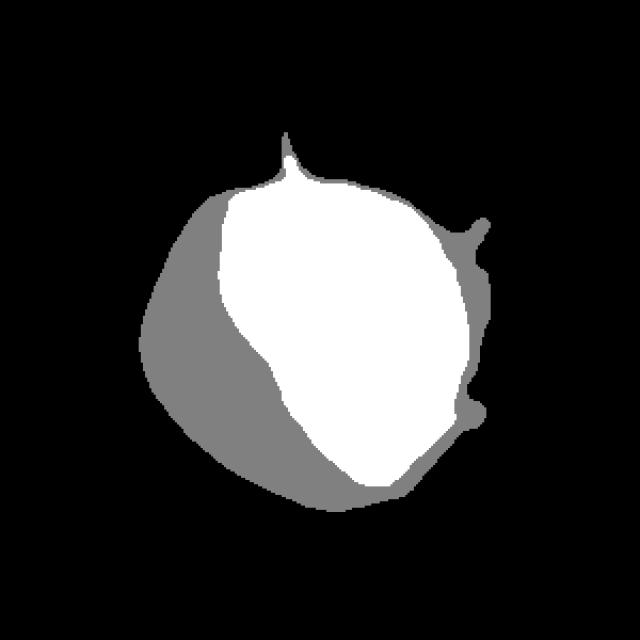WBC: (113, 128, 529, 525)
